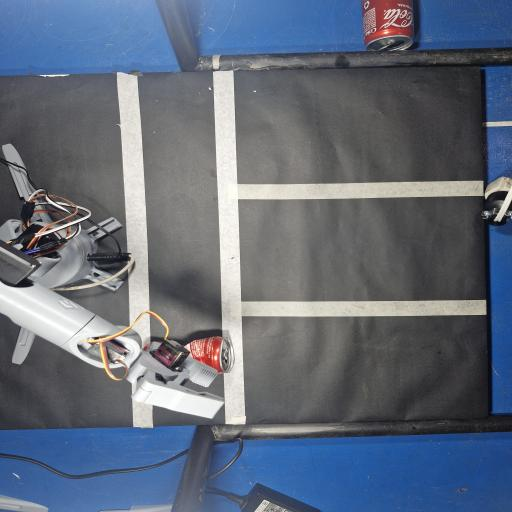lata_defectuoso: (187, 336, 234, 373)
